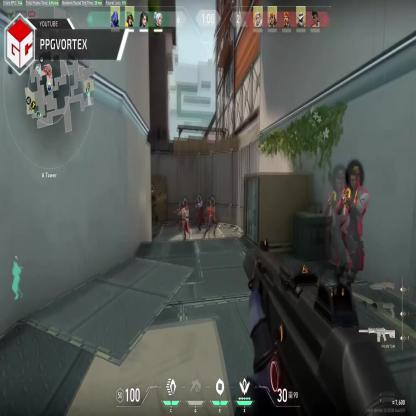enemy: (338, 164, 370, 299), (148, 182, 160, 226), (204, 197, 216, 240), (178, 199, 190, 240), (196, 196, 203, 232)
enemy_head: (348, 167, 361, 192), (210, 196, 215, 208), (183, 198, 188, 208), (197, 196, 202, 204), (150, 183, 154, 192)
